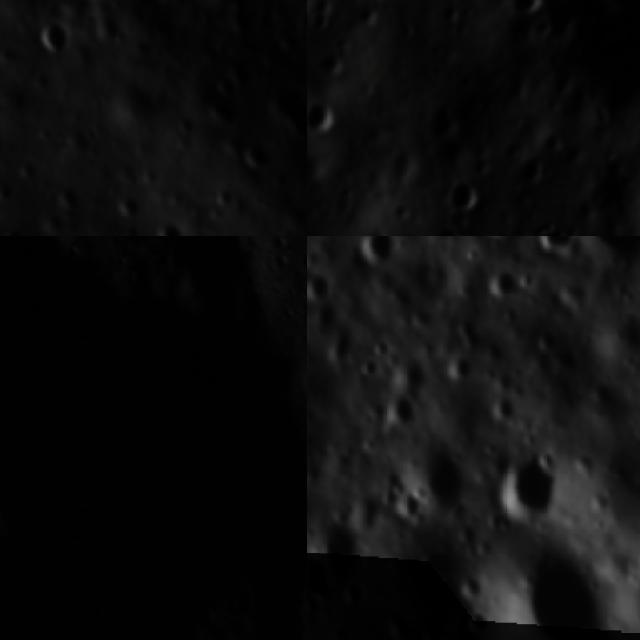crater: (0, 257, 307, 640), (527, 0, 640, 139), (494, 542, 622, 640), (489, 432, 565, 526), (308, 504, 368, 586), (412, 448, 472, 516), (443, 170, 489, 222), (378, 390, 422, 439), (307, 542, 335, 619), (234, 126, 271, 184), (425, 104, 467, 153), (307, 92, 347, 143), (474, 262, 520, 304), (350, 236, 403, 271), (31, 10, 68, 55), (513, 210, 576, 236), (440, 346, 478, 380), (485, 389, 519, 426), (307, 268, 335, 308), (503, 0, 546, 23), (142, 218, 188, 236), (531, 325, 559, 354), (356, 353, 381, 382), (426, 221, 472, 236), (371, 336, 390, 362)
